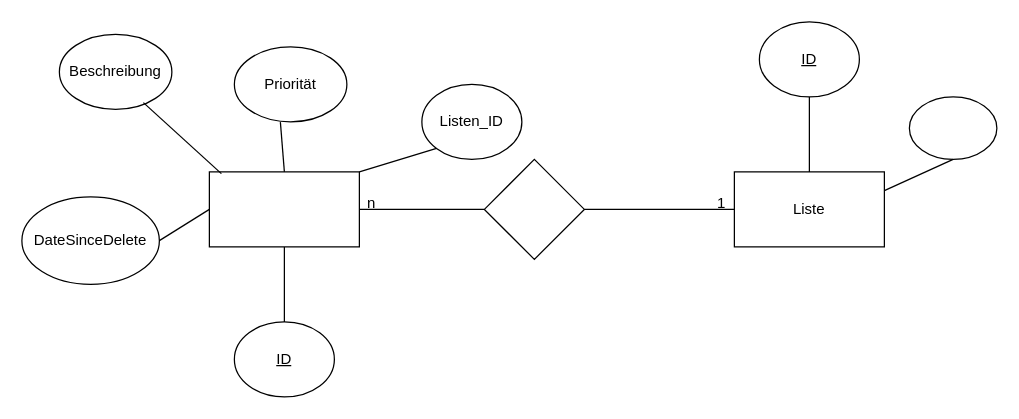
Image size: 1019x419. Some labels were removed from this diagram. The shapes that lost their labels are listed below. From the top down, each one's box as (x1, y1, x2, y2) in pixels, then its label:
(908, 96, 997, 159): Name
(208, 171, 359, 247): Aufgabe
(483, 158, 584, 259): enthalten
